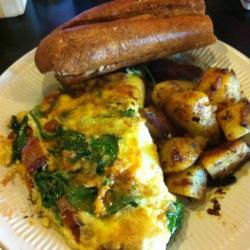bread: (45, 7, 208, 80)
omelette: (18, 97, 166, 243)
